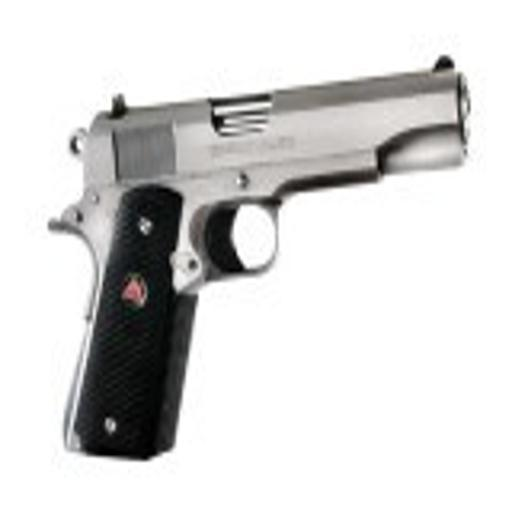Handgun: (37, 45, 472, 468)
